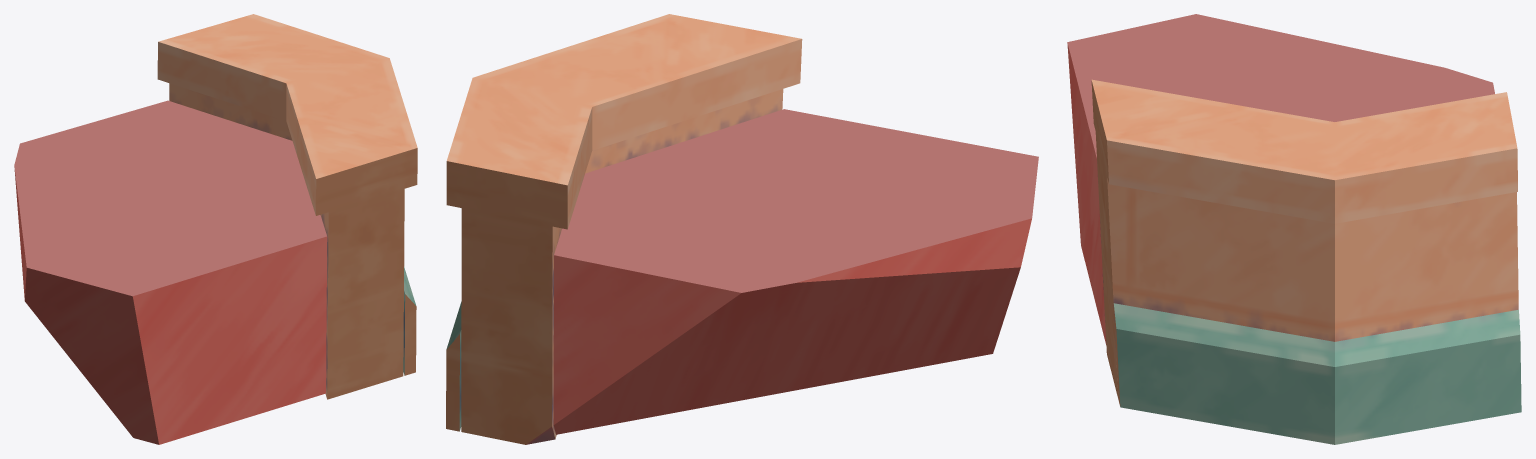
Rendered from vat_s07.fbx.
The picture shows the model from 3 angles, left to right: view 1: azimuth 30°, elevation 25°; view 2: azimuth 150°, elevation 25°; view 3: azimuth 270°, elevation 25°; orthographic projection. The views are drawn at different scales.
Visible parts, largest first — view 1: vat_s07; view 2: vat_s07; view 3: vat_s07.
Part boxes in pixels (x1=…): vat_s07: x1=14, y1=14, x2=417, y2=444; vat_s07: x1=446, y1=14, x2=1038, y2=444; vat_s07: x1=1067, y1=14, x2=1521, y2=444.
Size of the model in its own units: 3.28 by 1.7 by 2.64.
